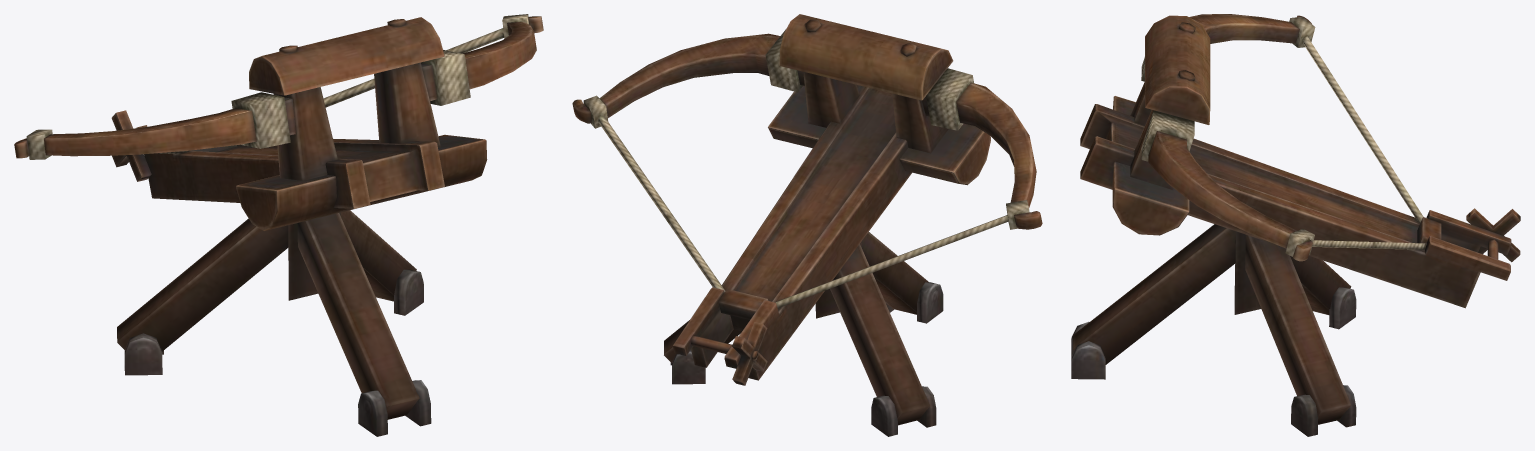
Rendered from weapon-base.glb.
3 renders of one model, left to right at view 1: azimuth 30°, elevation 25°; view 2: azimuth 150°, elevation 25°; view 3: azimuth 270°, elevation 25°, orthographic. The views are drawn at different scales.
Bounding box in the file's own units: 2.42 × 1.57 × 1.97.
Materials: 1 (1 with a texture image).
